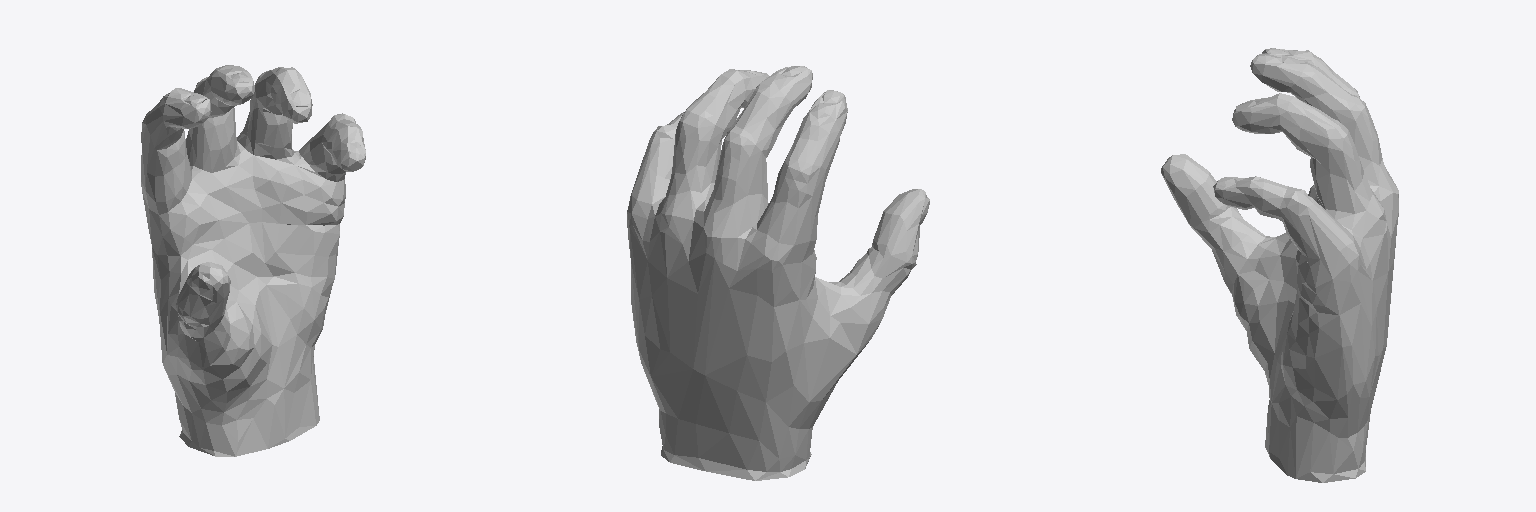
Rendered from Hand.obj.
3 views of the same model, side by side, from view 1: azimuth 30°, elevation 25°; view 2: azimuth 150°, elevation 25°; view 3: azimuth 270°, elevation 25° (orthographic).
Bounding box in the file's own units: 3.96 × 6.42 × 3.66.